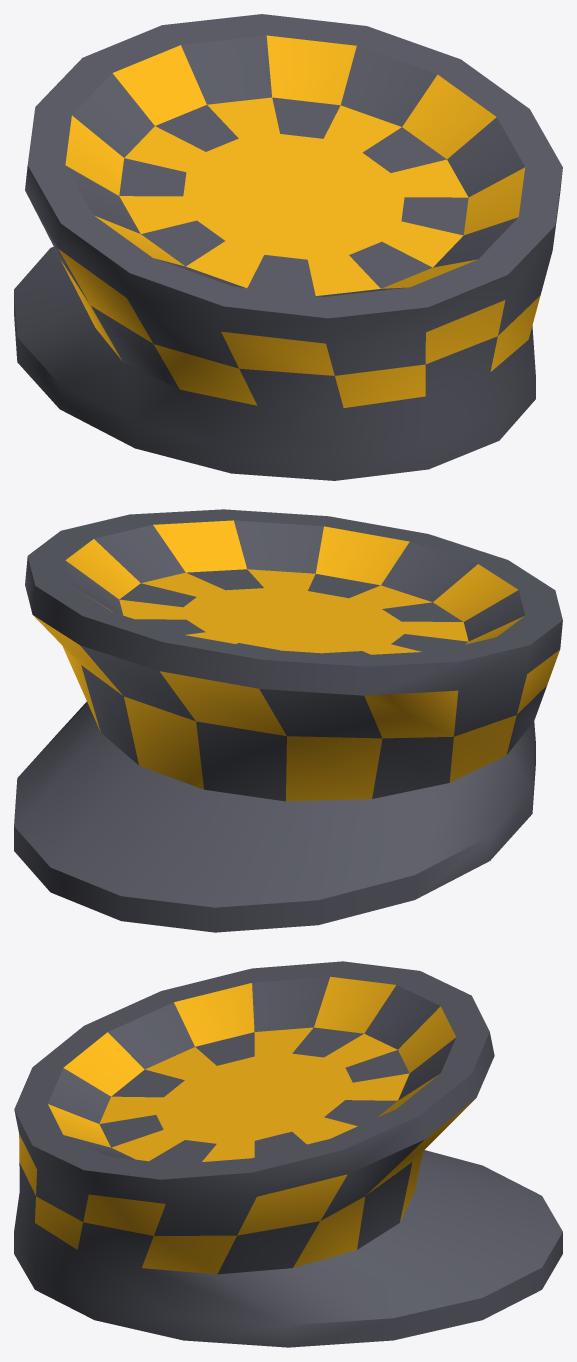
Rendered from cap_tier1.fbx.
3 renders of one model, top to bottom at view 1: azimuth 30°, elevation 25°; view 2: azimuth 150°, elevation 25°; view 3: azimuth 270°, elevation 25°, orthographic. The views are drawn at different scales.
Parts seen in each view (by area): view 1: Cylinder.006; view 2: Cylinder.006; view 3: Cylinder.006.
Boxes of the visible parts, x1=… form: Cylinder.006: x1=14, y1=14, x2=562, y2=480; Cylinder.006: x1=14, y1=509, x2=562, y2=932; Cylinder.006: x1=14, y1=961, x2=562, y2=1347.
Bounding box in the file's own units: 200 × 102 × 227.
